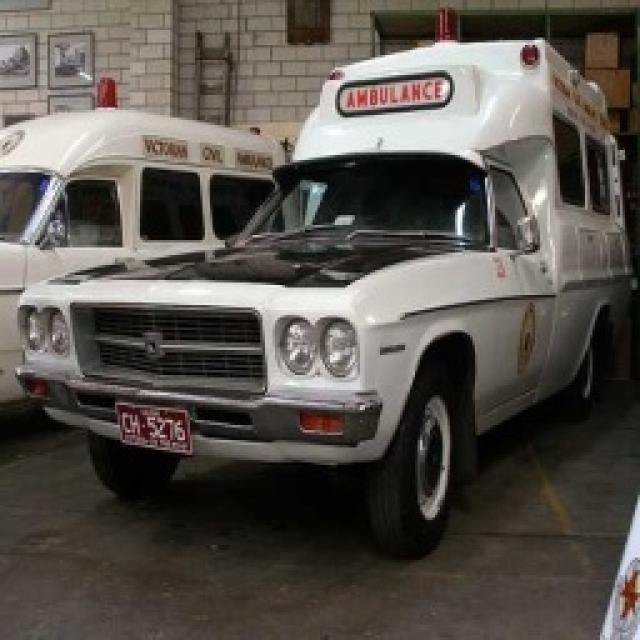emergency-vehicle: (11, 22, 625, 537)
